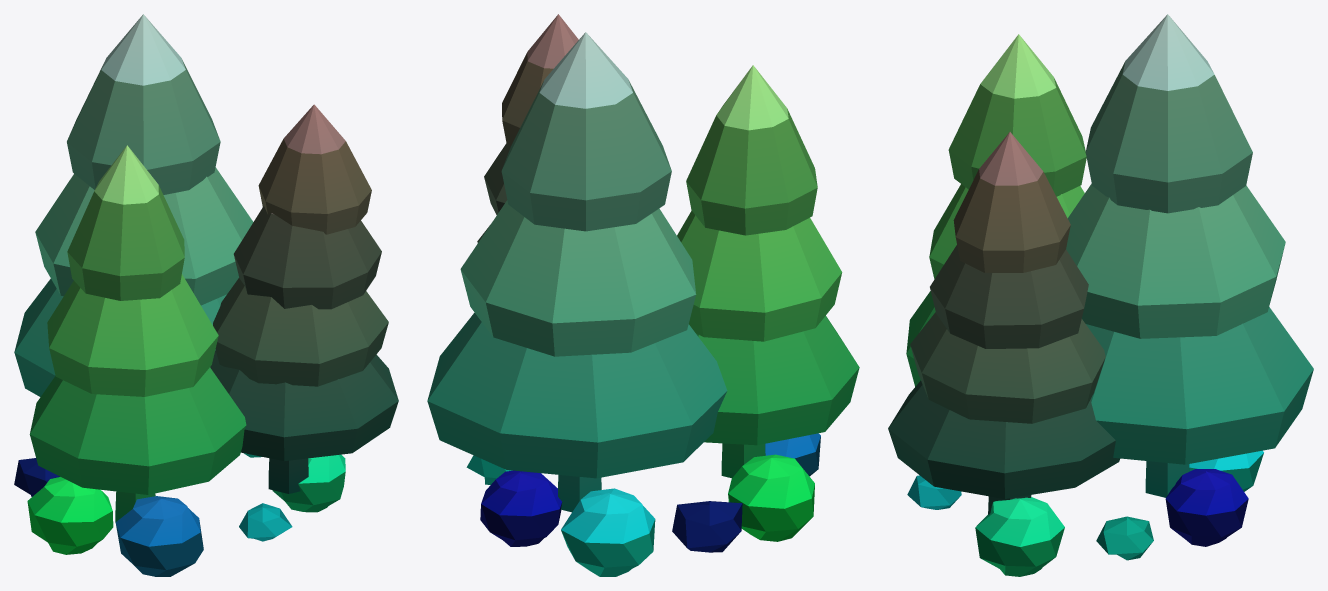
Rendered from frost_04.glb.
3 views of the same model, side by side, from view 1: azimuth 30°, elevation 25°; view 2: azimuth 150°, elevation 25°; view 3: azimuth 270°, elevation 25° (orthographic). The views are drawn at different scales.
Parts seen in each view (by area): view 1: frost_04; view 2: frost_04; view 3: frost_04.
Boxes of the visible parts, x1,y1,x2,y2 form: frost_04: (14, 14, 398, 576); frost_04: (427, 14, 859, 576); frost_04: (888, 14, 1313, 576).
Bounding box in the file's own units: 0.9391 × 1.24 × 0.94.
